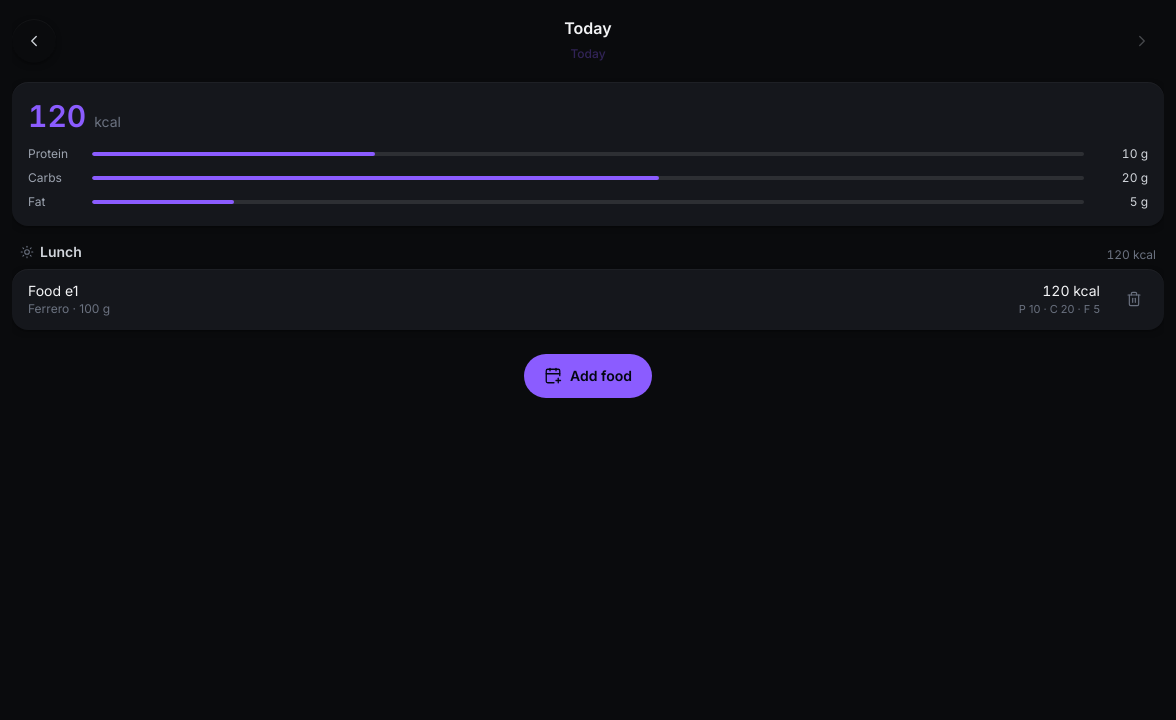
Test: DiaryDay › a 404 on edit (foreign/deleted entry) surfaces an error, not a crash
The image size is (1176, 720).
Click the button with test id "entry-edit-e1" at (53, 291), box [20, 273, 1108, 326]
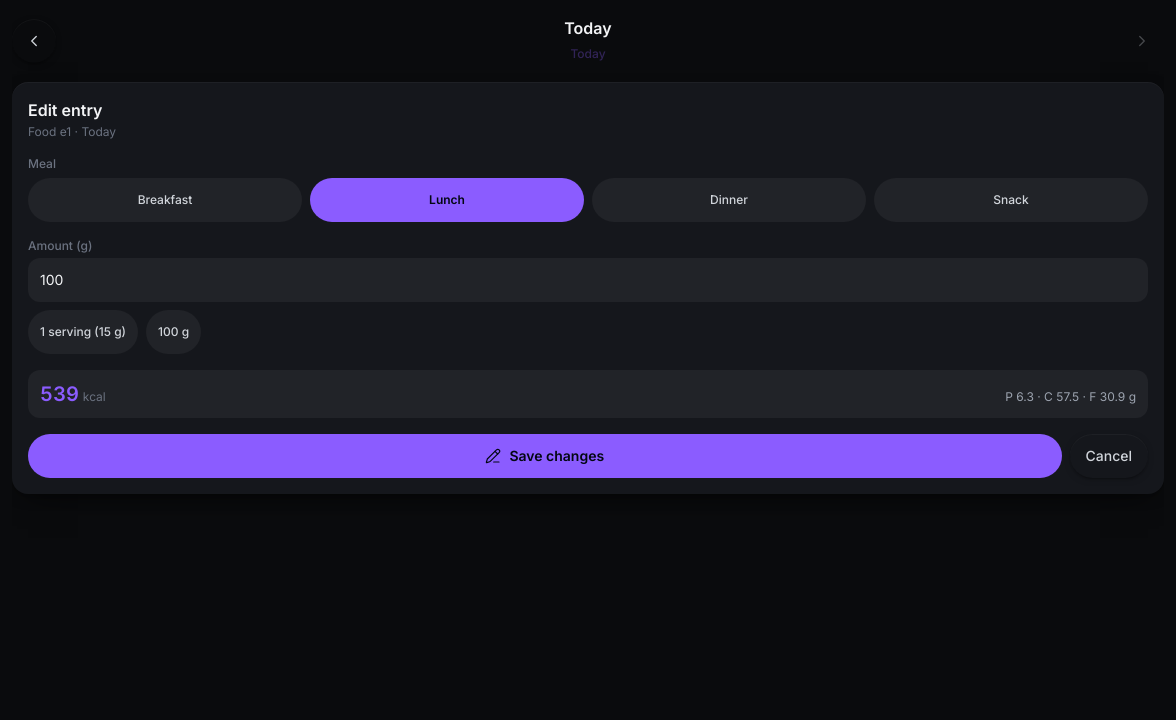
Click the button with test id "atd-submit" at (545, 456), box [28, 434, 1062, 478]
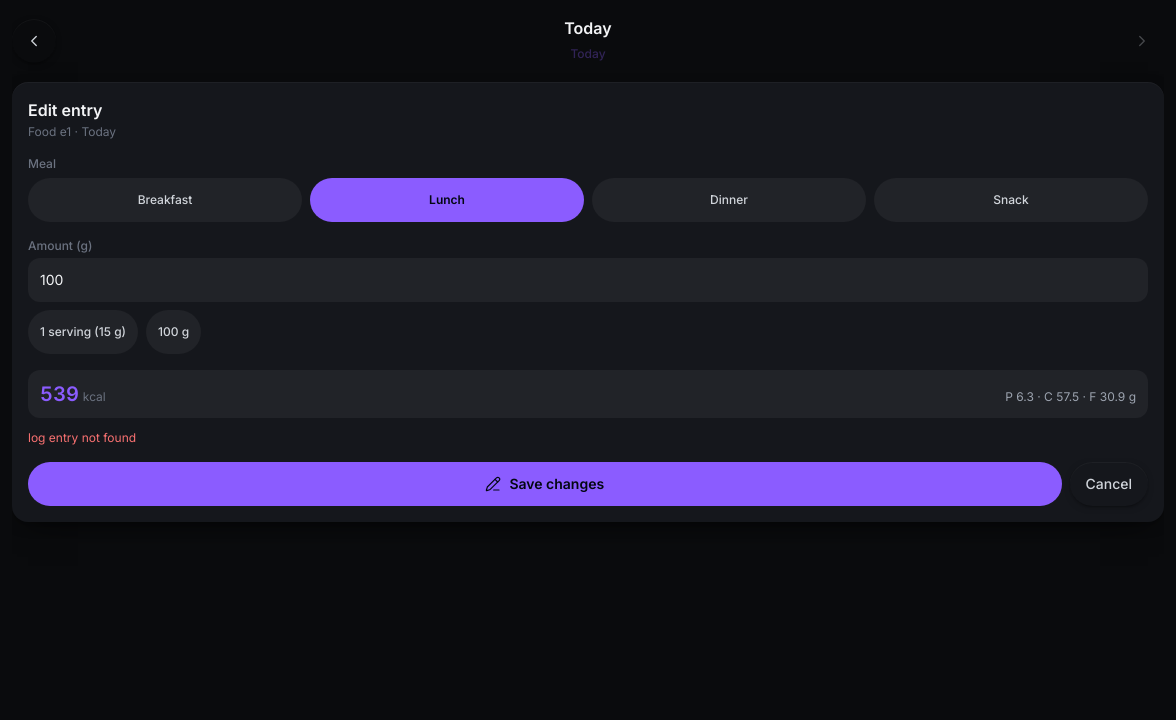
Expected: the form with test id "add-to-diary-sheet" is shown, [12, 82, 1164, 522]
Expected: the message reads "log entry not found", [28, 430, 136, 445]
